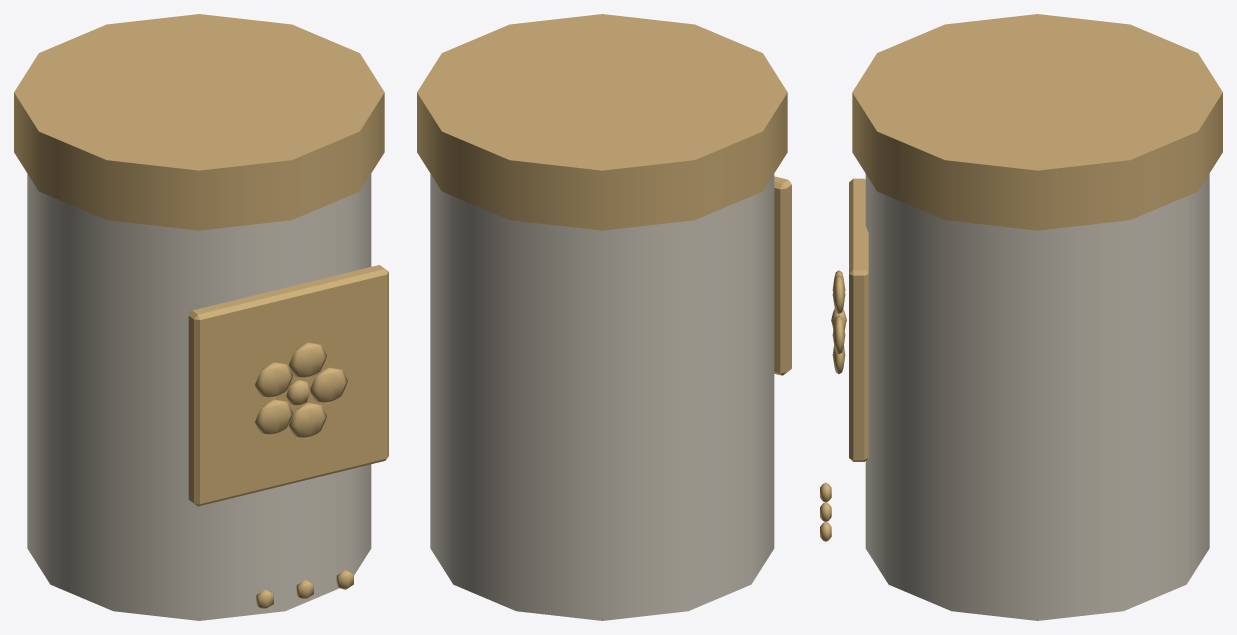
3 renders of one model, left to right at view 1: azimuth 30°, elevation 25°; view 2: azimuth 150°, elevation 25°; view 3: azimuth 270°, elevation 25°, orthographic.
Visible parts, largest first — view 1: st06; view 2: st06; view 3: st06.
Part boxes in pixels (x1,y1,x2,y2): st06: (14, 14, 388, 620); st06: (417, 14, 791, 620); st06: (820, 14, 1222, 620).
Bounding box in the file's own units: 0.28 × 0.38 × 0.3043.
